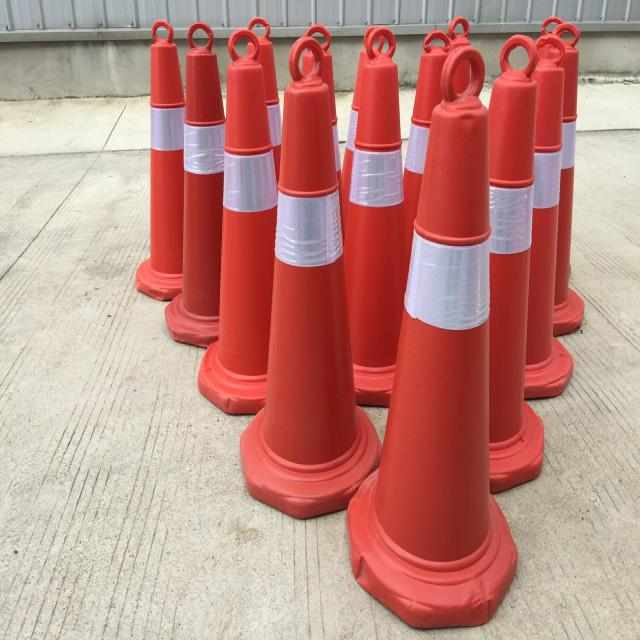reflective_cone: (345, 43, 520, 623), (235, 36, 378, 519), (199, 29, 277, 410), (487, 29, 548, 489), (167, 23, 226, 346), (134, 21, 187, 298)
